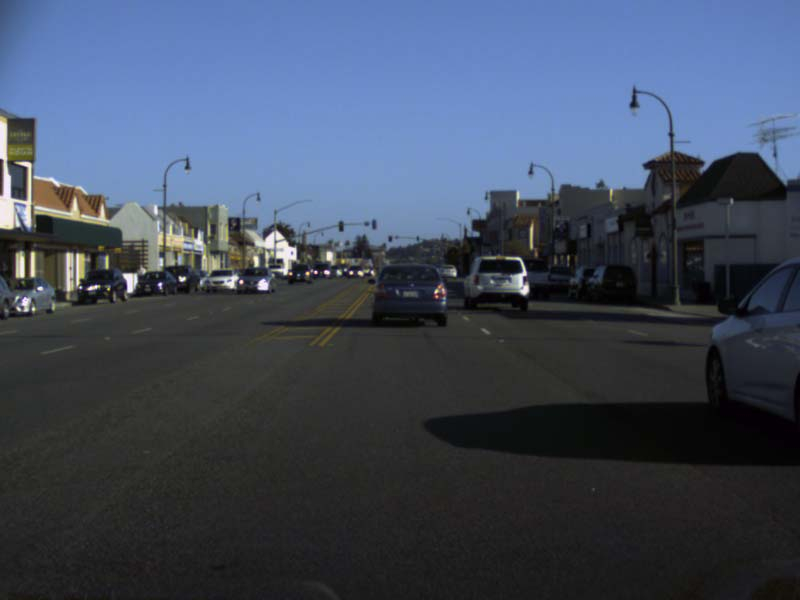Green: (471, 251, 474, 256)
Red: (388, 234, 391, 240)
